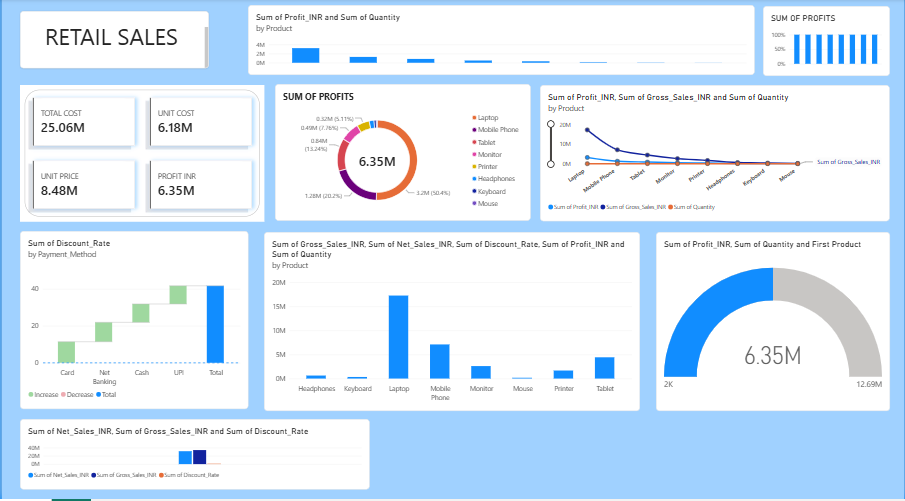

This screenshot's page, from the dashboard's own definition file:
{"tool":"powerbi","page":{"name":"Page 1","canvas":[1920,1080],"ordinal":0},"visuals":[{"type":"textbox","box":[13.3,891.7,280,188.3],"z":0},{"type":"cardVisual","fields":{"Data":["Sum(PowerBI_Retail_Sales_Dataset (1).Total_Cost_INR)","Sum(PowerBI_Retail_Sales_Dataset (1).Unit_Cost_INR)","Sum(PowerBI_Retail_Sales_Dataset (1).Unit_Price_INR)","Sum(PowerBI_Retail_Sales_Dataset (1).Profit_INR)"]},"box":[37.8,200,520,291.1],"z":1000},{"type":"donutChart","title":"SUM  OF PROFITS","fields":{"Category":["PowerBI_Retail_Sales_Dataset (1).Product"],"Y":["Sum(PowerBI_Retail_Sales_Dataset (1).Profit_INR)"]},"box":[580,197.8,544.4,291.1],"z":2000},{"type":"waterfallChart","fields":{"Category":["PowerBI_Retail_Sales_Dataset (1).Payment_Method"],"Y":["Sum(PowerBI_Retail_Sales_Dataset (1).Discount_Rate)"]},"box":[37.8,511.1,485.7,379.4],"z":3000},{"type":"lineStackedColumnComboChart","fields":{"Category":["PowerBI_Retail_Sales_Dataset (1).Product","PowerBI_Retail_Sales_Dataset (1).City"],"Y":["Sum(PowerBI_Retail_Sales_Dataset (1).Gross_Sales_INR)"]},"box":[557.4,512.8,800,380.9],"z":3001},{"type":"lineChart","fields":{"Category":["PowerBI_Retail_Sales_Dataset (1).Product"],"Y":["Sum(PowerBI_Retail_Sales_Dataset (1).Profit_INR)","Sum(PowerBI_Retail_Sales_Dataset (1).Gross_Sales_INR)","Sum(PowerBI_Retail_Sales_Dataset (1).Quantity)"]},"box":[1144.4,200,744.4,290.5],"z":3002},{"type":"gauge","fields":{"MinValue":["Sum(PowerBI_Retail_Sales_Dataset (1).Quantity)"],"Y":["Sum(PowerBI_Retail_Sales_Dataset (1).Profit_INR)"]},"box":[1391.5,512.8,497.9,380.9],"z":3003},{"type":"textbox","box":[37.8,106.7,486.7,184.4],"z":3004},{"type":"textbox","box":[37.8,42.2,402.2,122.2],"z":3005},{"type":"columnChart","fields":{"Category":["PowerBI_Retail_Sales_Dataset (1).Product"],"Y":["Sum(PowerBI_Retail_Sales_Dataset (1).Profit_INR)","Sum(PowerBI_Retail_Sales_Dataset (1).Quantity)"]},"box":[523.4,29.8,1077.8,148.9],"z":3006},{"type":"clusteredColumnChart","fields":{"Y":["Sum(PowerBI_Retail_Sales_Dataset (1).Net_Sales_INR)","Sum(PowerBI_Retail_Sales_Dataset (1).Gross_Sales_INR)","Sum(PowerBI_Retail_Sales_Dataset (1).Discount_Rate)"]},"box":[37.8,911.1,744,150],"z":3007},{"type":"hundredPercentStackedColumnChart","title":"SUM OF PROFITS","fields":{"Category":["PowerBI_Retail_Sales_Dataset (1).Product"],"Y":["Sum(PowerBI_Retail_Sales_Dataset (1).Net_Sales_INR)"]},"box":[1619.1,31.9,270.2,148.9],"z":3008}]}

Visuals, with their boxes in screenshot pixels (x1, y1, x2, y2), scaled from the page's 1920x1080 canvas onto the 905x501 screenshot:
textbox: [6, 414, 138, 500]
cardVisual - Sum(PowerBI_Retail_Sales_Dataset (1).Total_Cost_INR) x Sum(PowerBI_Retail_Sales_Dataset (1).Unit_Cost_INR): [18, 93, 263, 228]
"SUM  OF PROFITS" donutChart: [273, 92, 530, 227]
waterfallChart - PowerBI_Retail_Sales_Dataset (1).Payment_Method x Sum(PowerBI_Retail_Sales_Dataset (1).Discount_Rate): [18, 237, 247, 413]
lineStackedColumnComboChart - PowerBI_Retail_Sales_Dataset (1).Product x PowerBI_Retail_Sales_Dataset (1).City: [263, 238, 640, 415]
lineChart - PowerBI_Retail_Sales_Dataset (1).Product x Sum(PowerBI_Retail_Sales_Dataset (1).Profit_INR): [539, 93, 890, 228]
gauge - Sum(PowerBI_Retail_Sales_Dataset (1).Quantity) x Sum(PowerBI_Retail_Sales_Dataset (1).Profit_INR): [656, 238, 891, 415]
textbox: [18, 49, 247, 135]
textbox: [18, 20, 207, 76]
columnChart - PowerBI_Retail_Sales_Dataset (1).Product x Sum(PowerBI_Retail_Sales_Dataset (1).Profit_INR): [247, 14, 755, 83]
clusteredColumnChart - Sum(PowerBI_Retail_Sales_Dataset (1).Net_Sales_INR) x Sum(PowerBI_Retail_Sales_Dataset (1).Gross_Sales_INR): [18, 423, 369, 492]
"SUM OF PROFITS" hundredPercentStackedColumnChart: [763, 15, 891, 84]
